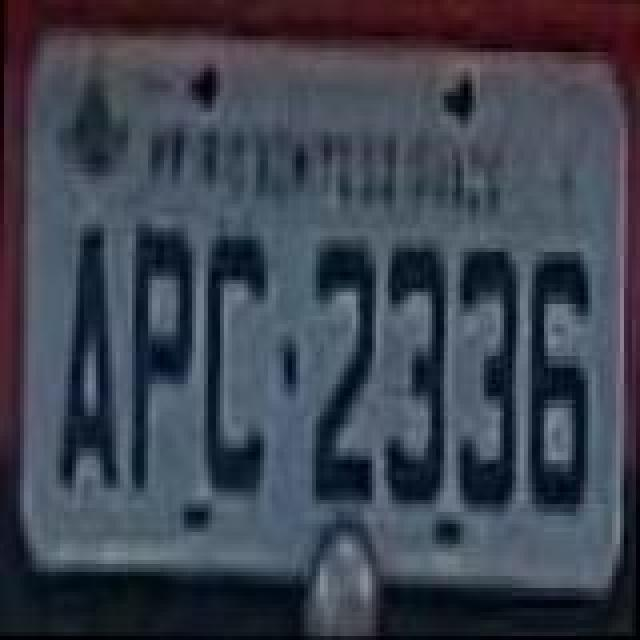2: (308, 234, 380, 506)
3: (382, 240, 450, 512), (452, 240, 520, 512)
6: (524, 248, 592, 520)
A: (56, 220, 120, 492)
C: (202, 228, 270, 500)
P: (126, 222, 194, 494)
